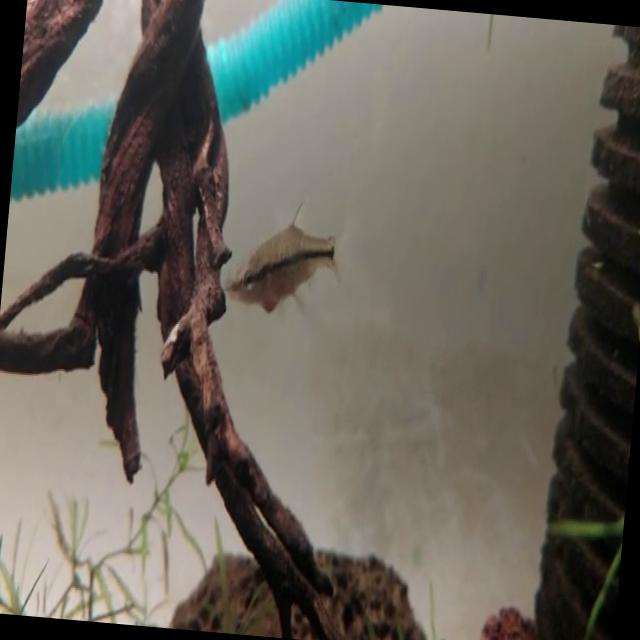Cakil Baligi: (222, 195, 362, 320)
